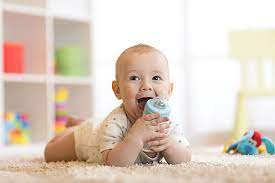child: (34, 42, 193, 170)
